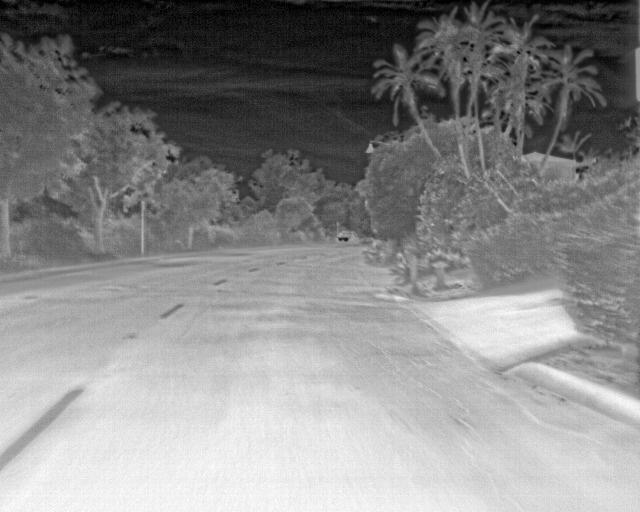car: (335, 229, 356, 243)
